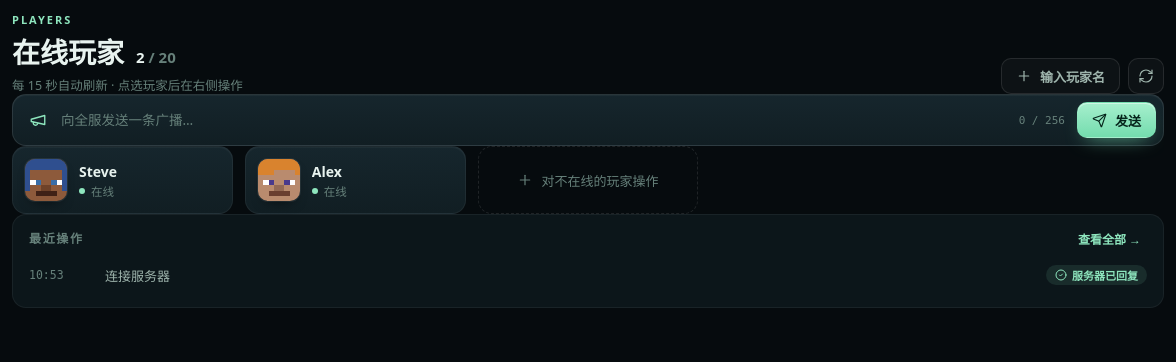
Scenario: player grid › records a manual refresh
Click the button named "刷新在线玩家": (1146, 76) [1128,58,1164,94]
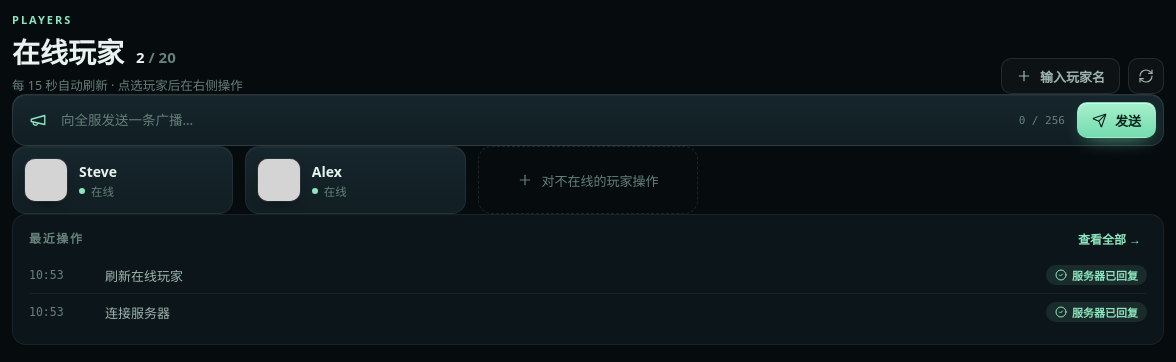
Result: the text "刷新在线玩家" is shown at [105,266,183,284]
